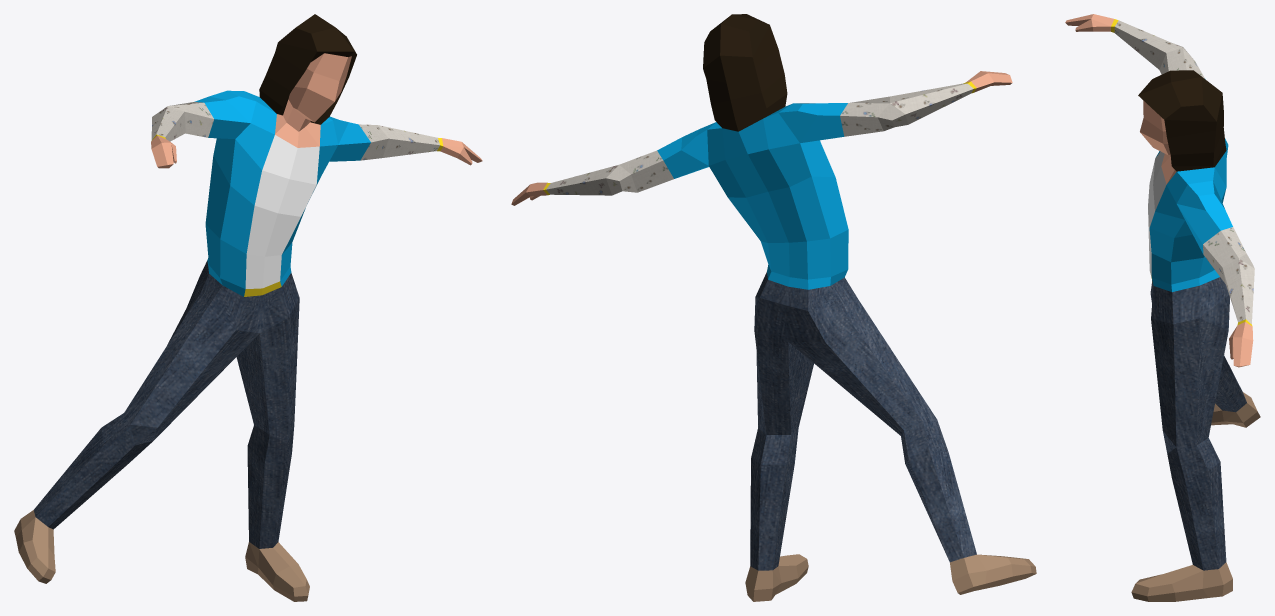
File: SpringGirl.005.glb
3 renders of one model, left to right at view 1: azimuth 30°, elevation 25°; view 2: azimuth 150°, elevation 25°; view 3: azimuth 270°, elevation 25°, orthographic. The views are drawn at different scales.
Parts seen in each view (by area): view 1: SpringGirl.005; view 2: SpringGirl.005; view 3: SpringGirl.005.
Part boxes in pixels (box(x1,y1,x2,y2)): SpringGirl.005: box(14, 14, 482, 601); SpringGirl.005: box(511, 14, 1036, 601); SpringGirl.005: box(1065, 14, 1260, 601).
Bounding box in the file's own units: 1.07 × 1.17 × 0.3833.
1 material, 1 textured.
